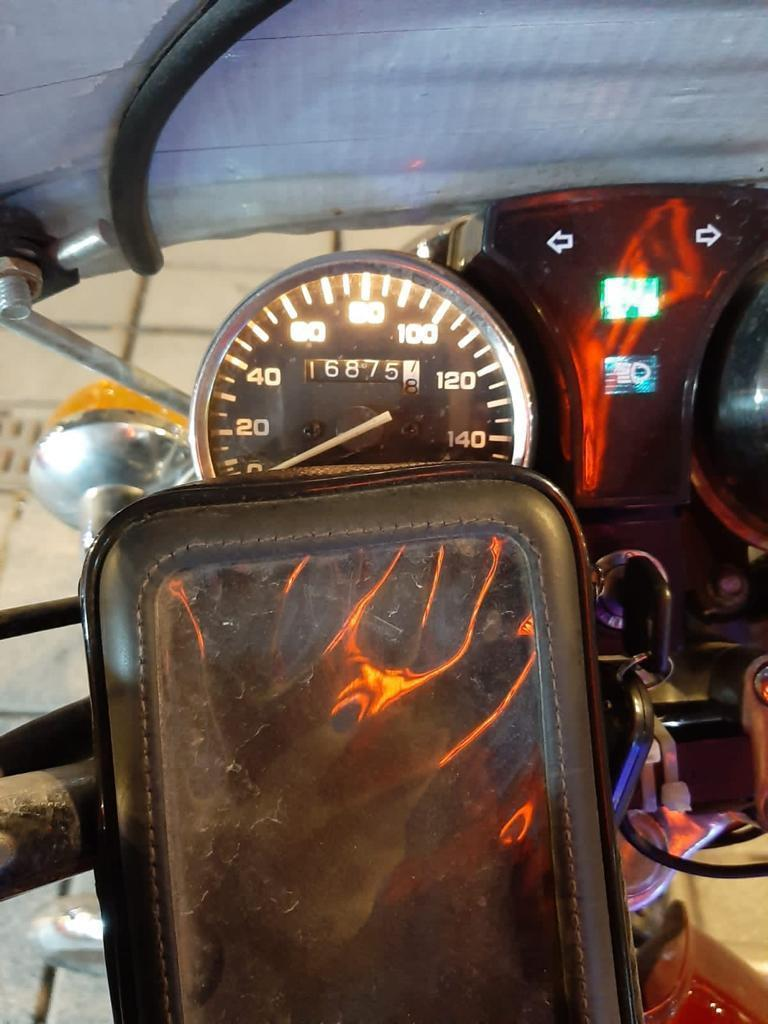1: (309, 360, 314, 379)
5: (384, 362, 398, 380)
6: (324, 359, 339, 377)
7: (364, 359, 379, 377), (406, 358, 417, 372)
8: (345, 360, 359, 378), (404, 378, 417, 394)
odometer: (302, 357, 421, 399)
